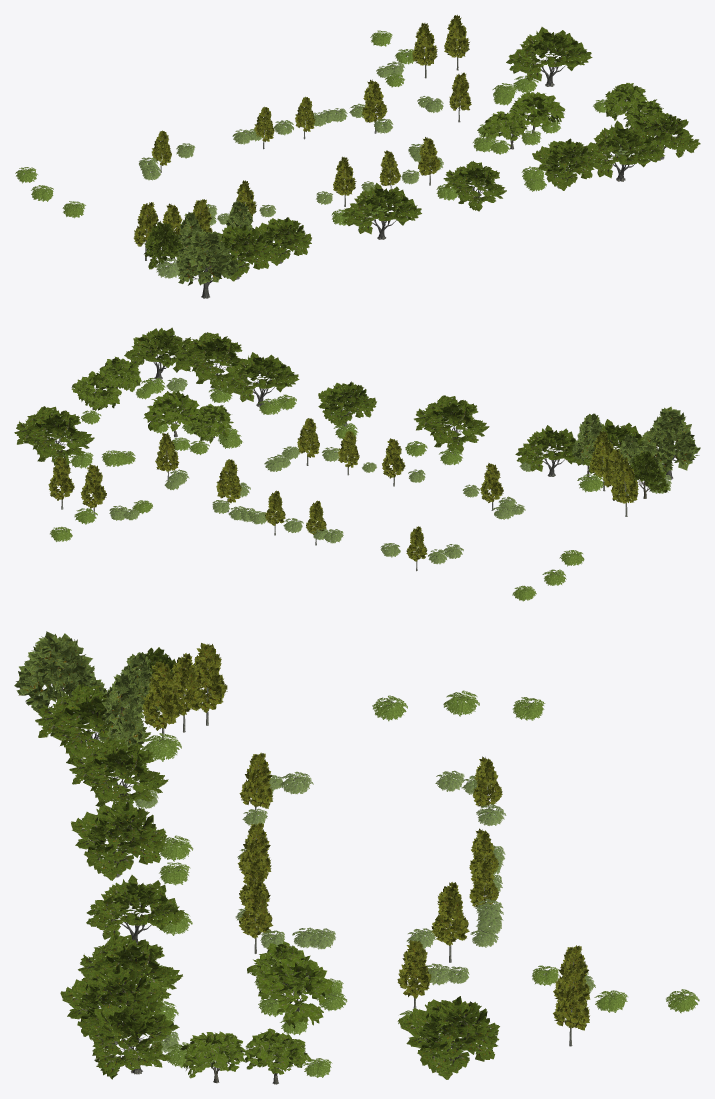
File: Tree_Church.fbx
The picture shows the model from 3 angles, top to bottom: view 1: azimuth 30°, elevation 25°; view 2: azimuth 150°, elevation 25°; view 3: azimuth 270°, elevation 25°; orthographic projection. The views are drawn at different scales.
Parts seen in each view (by area): view 1: Deciduous_08_leaves, Deciduous_08_leaves_7, Deciduous_02_leaves, Deciduous_08_leaves_4, Deciduous_08_leaves_6, Deciduous_08_leaves_5, Deciduous_08_leaves_3, Deciduous_08_leaves_2, Deciduous_08_leaves_1, Deciduous_021_leaves, Deciduous_030_leaves, Deciduous_020_leaves (+16 smaller); view 2: Deciduous_08_leaves, Deciduous_08_leaves_4, Deciduous_02_leaves, Deciduous_08_leaves_7, Deciduous_08_leaves_6, Deciduous_08_leaves_1, Deciduous_08_leaves_5, Deciduous_08_leaves_2, Deciduous_021_leaves, Deciduous_020_leaves_1, Deciduous_020_leaves, Deciduous_030_leaves (+18 smaller); view 3: Deciduous_08_leaves, Deciduous_08_leaves_4, Deciduous_08_leaves_1, Deciduous_08_leaves_2, Deciduous_02_leaves, Deciduous_08_leaves_3, Deciduous_08_leaves_7, Deciduous_08_leaves_5, Deciduous_021_leaves, Deciduous_08_leaves_6, Deciduous_04_leaves, Deciduous_020_leaves_2 (+17 smaller).
Part boxes in pixels (x1,y1,x2,y2): Deciduous_08_leaves: [506, 27, 592, 81]; Deciduous_08_leaves_7: [582, 120, 664, 178]; Deciduous_02_leaves: [176, 231, 239, 285]; Deciduous_08_leaves_4: [341, 183, 421, 234]; Deciduous_08_leaves_6: [532, 138, 595, 190]; Deciduous_08_leaves_5: [443, 161, 506, 211]; Deciduous_08_leaves_3: [215, 224, 272, 281]; Deciduous_08_leaves_2: [254, 217, 311, 265]; Deciduous_08_leaves_1: [628, 111, 700, 157]; Deciduous_021_leaves: [508, 92, 565, 128]; Deciduous_030_leaves: [144, 221, 182, 269]; Deciduous_020_leaves: [481, 111, 528, 141]; Deciduous_08_leaves: [14, 406, 94, 465]; Deciduous_08_leaves_4: [414, 395, 489, 454]; Deciduous_02_leaves: [639, 406, 700, 473]; Deciduous_08_leaves_7: [174, 332, 247, 391]; Deciduous_08_leaves_6: [223, 352, 299, 401]; Deciduous_08_leaves_1: [124, 327, 191, 372]; Deciduous_08_leaves_5: [318, 381, 376, 427]; Deciduous_08_leaves_2: [515, 425, 575, 471]; Deciduous_021_leaves: [143, 390, 199, 431]; Deciduous_020_leaves_1: [71, 371, 121, 410]; Deciduous_020_leaves: [190, 403, 233, 443]; Deciduous_030_leaves: [623, 451, 669, 495]; Deciduous_08_leaves: [398, 996, 499, 1079]; Deciduous_08_leaves_4: [71, 802, 167, 880]; Deciduous_08_leaves_1: [88, 1000, 179, 1079]; Deciduous_08_leaves_2: [69, 738, 168, 808]; Deciduous_02_leaves: [14, 631, 107, 718]; Deciduous_08_leaves_3: [35, 683, 150, 767]; Deciduous_08_leaves_7: [60, 964, 164, 1043]; Deciduous_08_leaves_5: [86, 875, 184, 939]; Deciduous_021_leaves: [257, 957, 332, 1028]; Deciduous_08_leaves_6: [78, 934, 182, 1003]; Deciduous_04_leaves: [98, 672, 147, 747]; Deciduous_020_leaves_2: [180, 1031, 249, 1078].
Size of the model in its own units: 8435 by 1118 by 6241.
